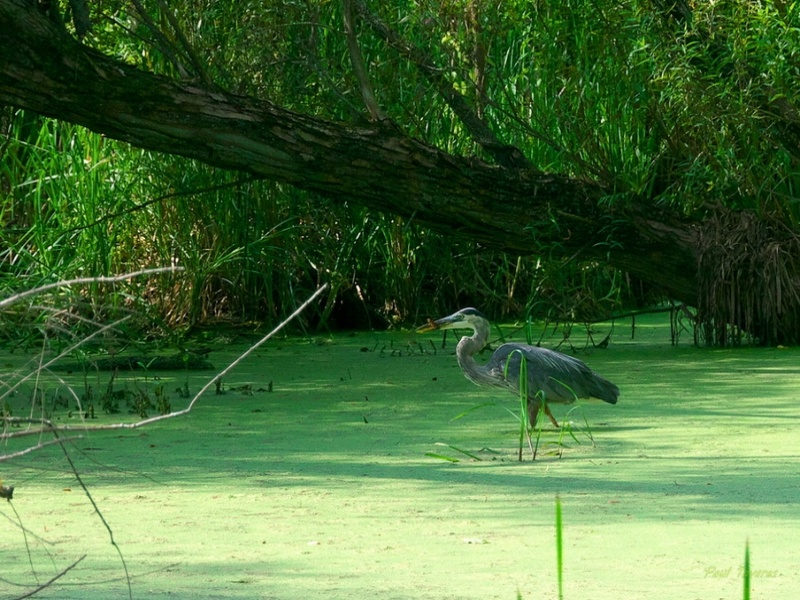heron: (418, 304, 626, 439)
